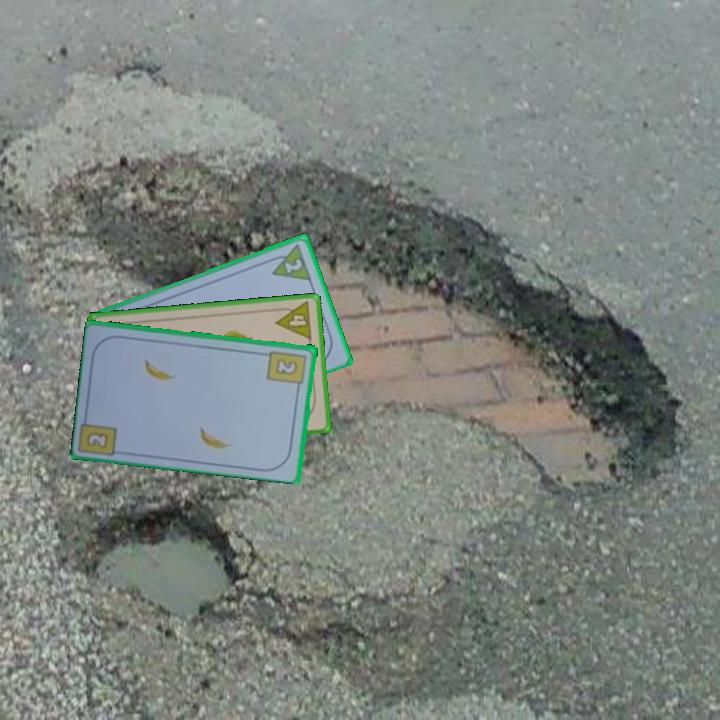2b: (265, 347, 309, 392), (85, 430, 109, 449)
2p: (281, 255, 305, 276)
4p: (271, 298, 315, 343)
